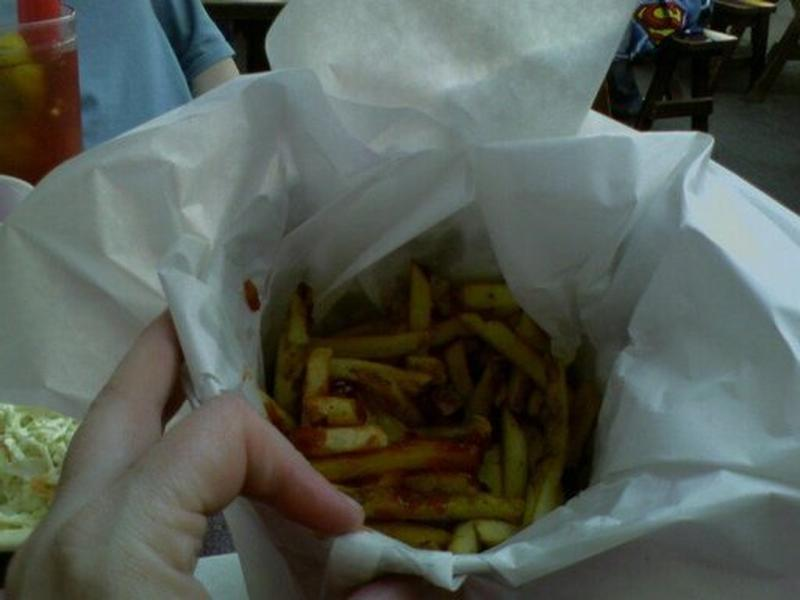french_fries: (211, 188, 741, 575)
